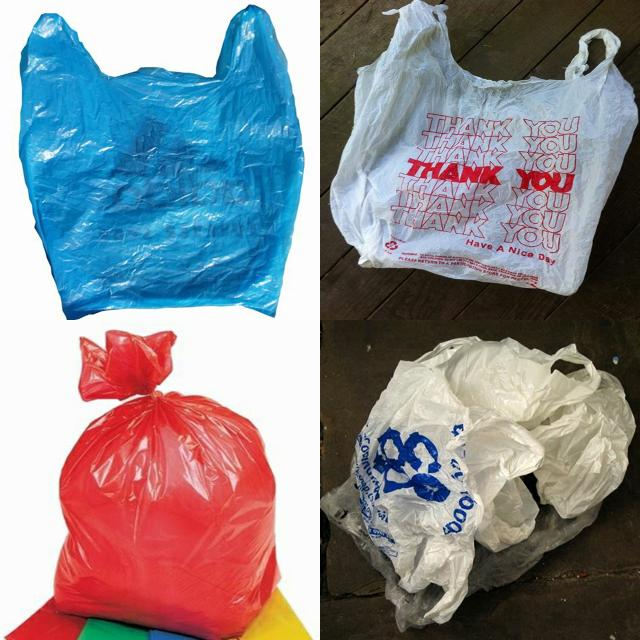Single-layer Plastic: (321, 338, 635, 630), (330, 0, 638, 295), (20, 6, 304, 319), (56, 331, 278, 640)
